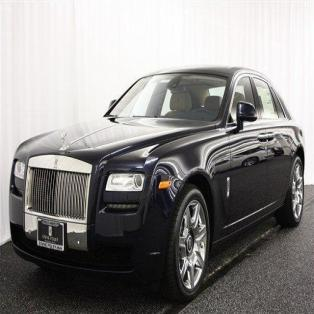Auto: (7, 65, 306, 298)
